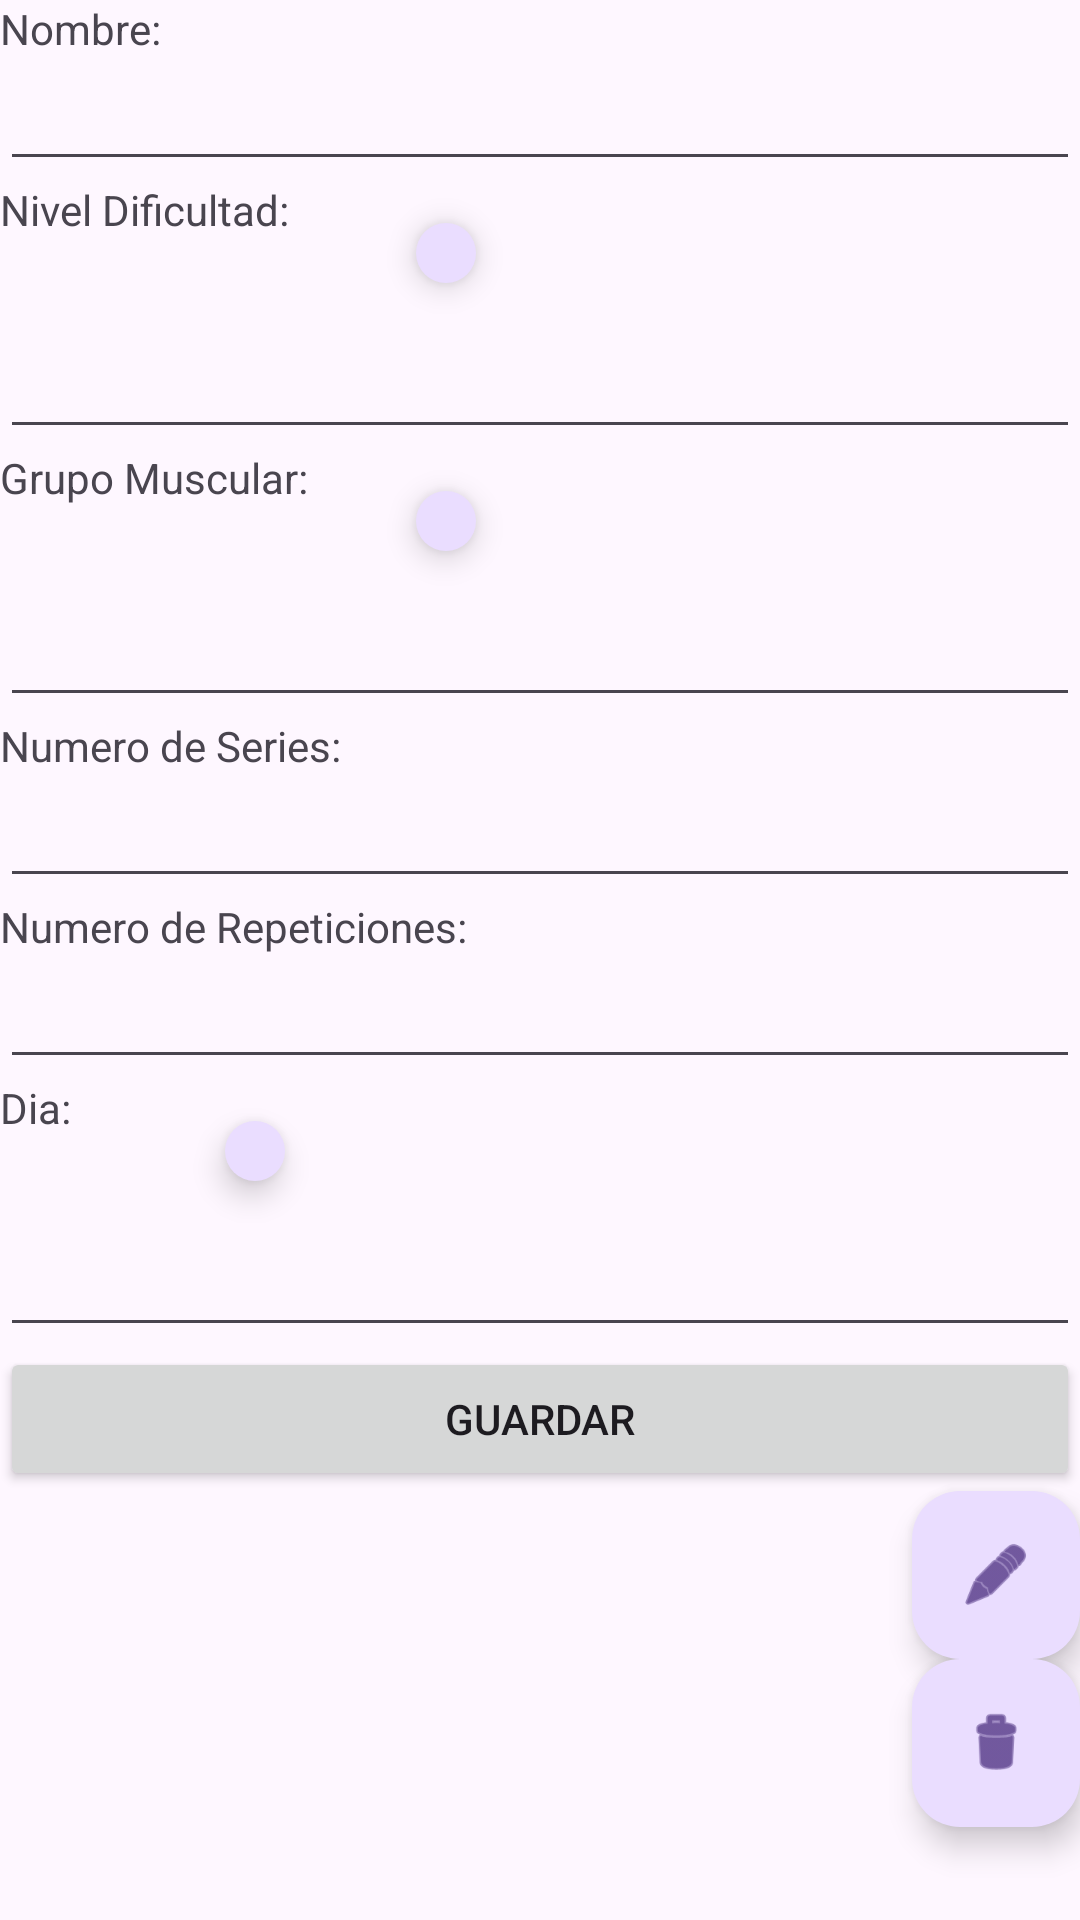

Icons on this 1080*1920 Android screen, each with its box as (x1, y1, x2, y2):
delete: (976, 1714, 1017, 1770)
edit: (912, 1491, 1080, 1659)
